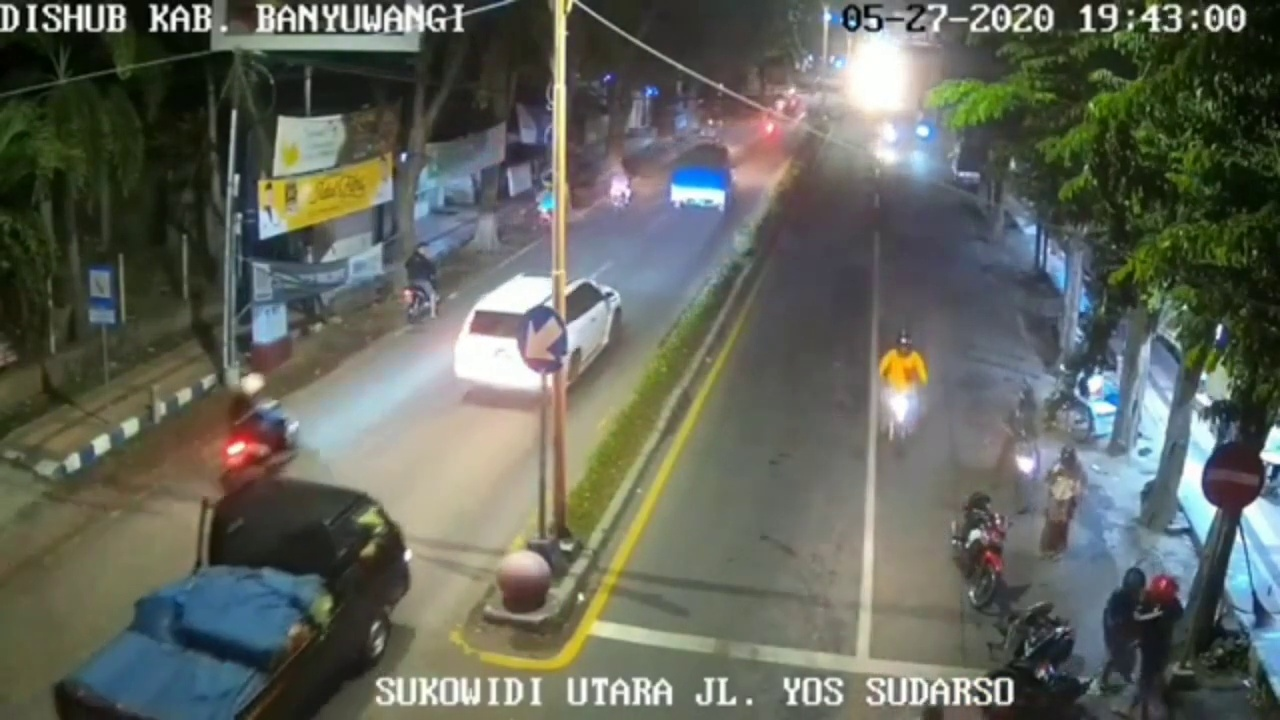car: (47, 483, 417, 717), (451, 268, 624, 400), (665, 143, 736, 217)
motorbike: (219, 372, 309, 487), (882, 330, 924, 450), (1003, 380, 1040, 502), (403, 248, 445, 324), (605, 160, 634, 216)
